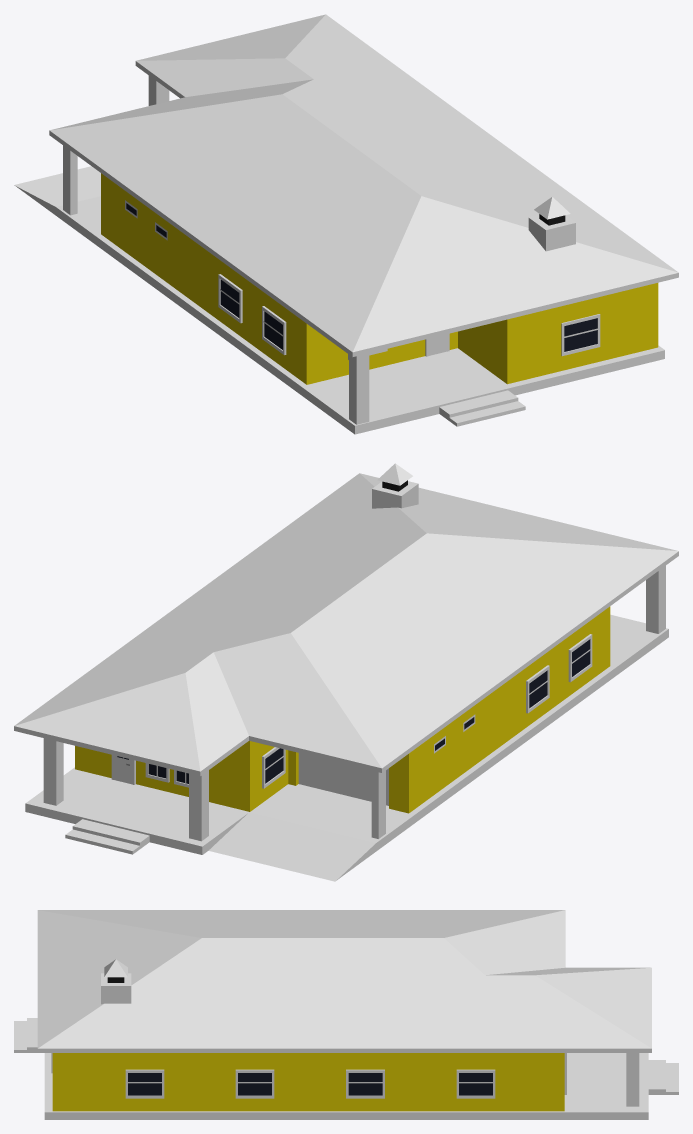
The model's file is House_5.glb.
The picture shows the model from 3 angles, top to bottom: view 1: azimuth 30°, elevation 25°; view 2: azimuth 150°, elevation 25°; view 3: azimuth 270°, elevation 25°; orthographic projection. The views are drawn at different scales.
Visible parts, largest first — view 1: House_5; view 2: House_5; view 3: House_5.
Boxes of the visible parts, x1=… form: House_5: x1=14, y1=14, x2=678, y2=434; House_5: x1=14, y1=463, x2=678, y2=881; House_5: x1=14, y1=910, x2=678, y2=1119.
Size of the model in its own units: 21.61 by 9.48 by 43.82.
